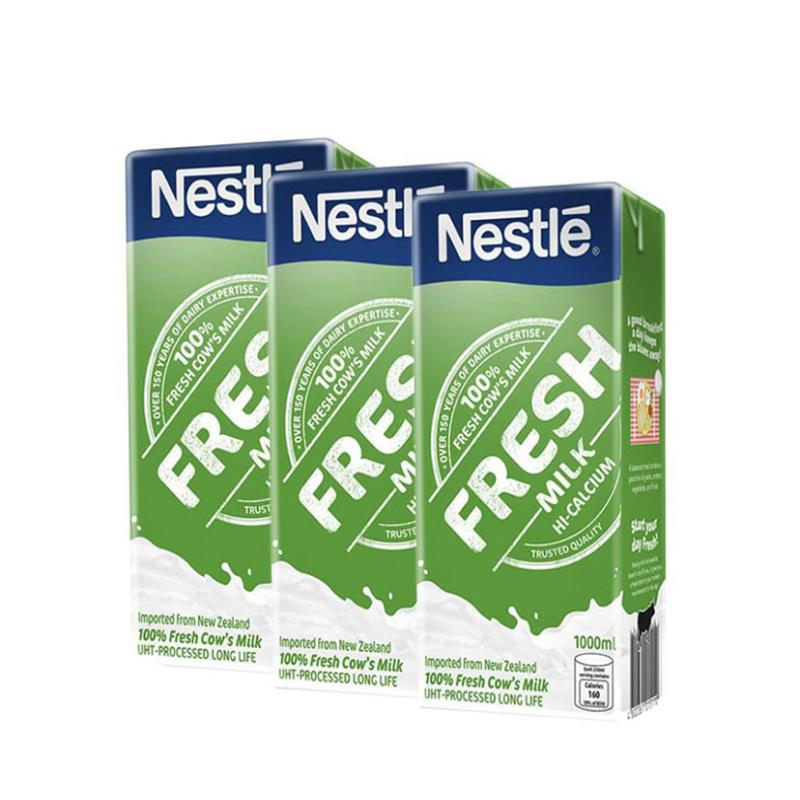uht carton: (411, 181, 669, 724), (125, 137, 374, 674), (270, 164, 503, 700)
